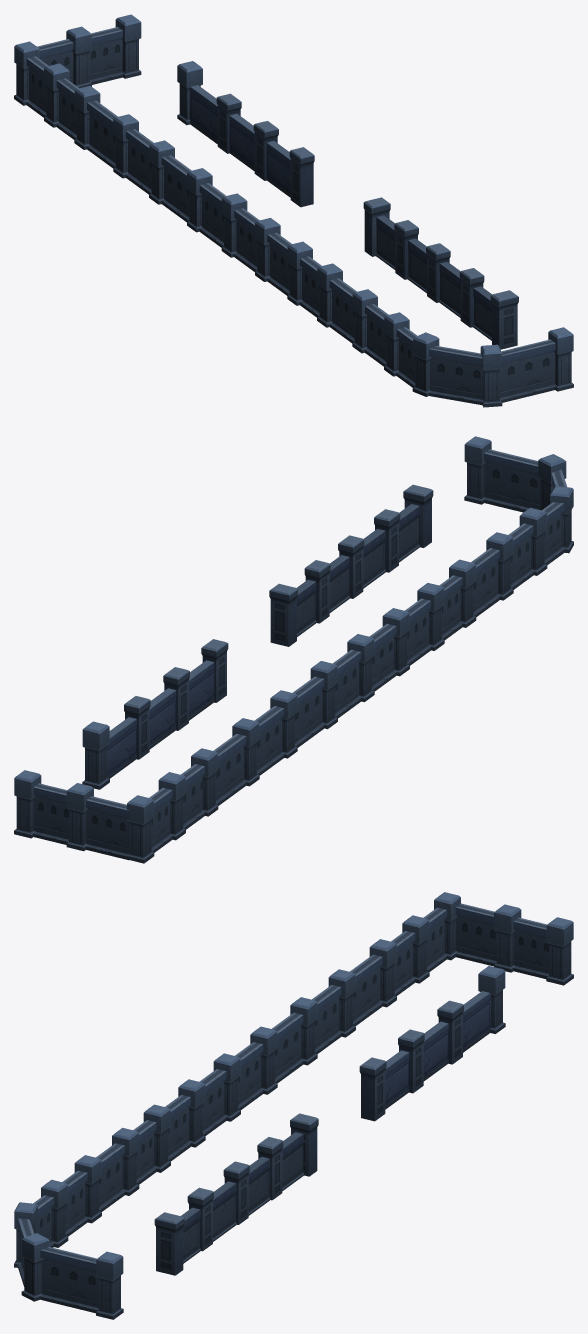
The model's file is Area_12_1.fbx.
3 renders of one model, top to bottom at view 1: azimuth 30°, elevation 25°; view 2: azimuth 150°, elevation 25°; view 3: azimuth 330°, elevation 25°, orthographic. The views are drawn at different scales.
Visible parts, largest first — view 1: Area_12_1; view 2: Area_12_1; view 3: Area_12_1.
Part boxes in pixels (<box>): Area_12_1: <box>14,14,573,407</box>; Area_12_1: <box>14,436,573,863</box>; Area_12_1: <box>14,892,573,1319</box>.
Bounding box in the file's own units: 1697 × 701 × 10155.
